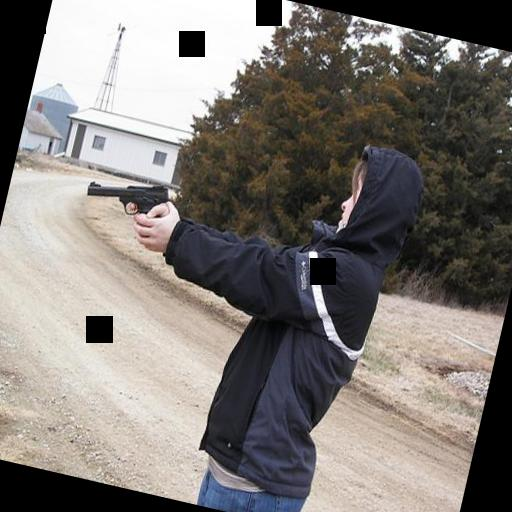Handgun: (79, 165, 173, 229)
